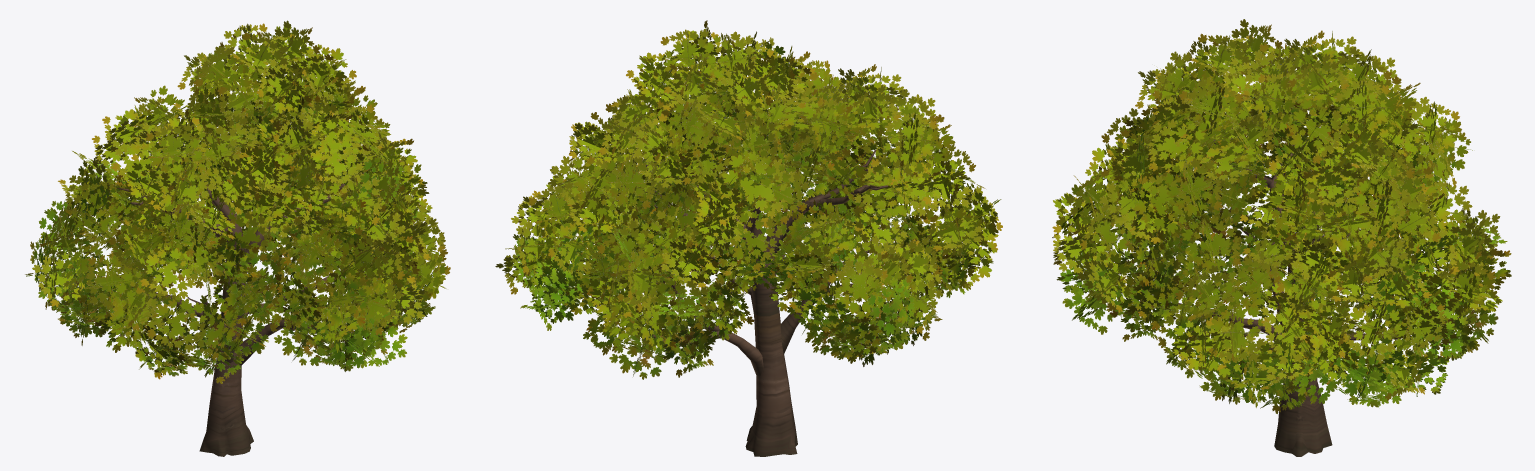
The model's file is FSF_Tree_003.FBX.
3 renders of one model, left to right at view 1: azimuth 30°, elevation 25°; view 2: azimuth 150°, elevation 25°; view 3: azimuth 270°, elevation 25°, orthographic. The views are drawn at different scales.
Parts seen in each view (by area): view 1: FSF_leves_003, FSF_truck_003; view 2: FSF_leves_003, FSF_truck_003; view 3: FSF_leves_003, FSF_truck_003.
Boxes of the visible parts, x1=… form: FSF_leves_003: x1=25, y1=20, x2=450, y2=383; FSF_truck_003: x1=106, y1=167, x2=363, y2=456; FSF_leves_003: x1=495, y1=20, x2=1002, y2=379; FSF_truck_003: x1=637, y1=149, x2=888, y2=456; FSF_leves_003: x1=1052, y1=19, x2=1511, y2=413; FSF_truck_003: x1=1168, y1=119, x2=1449, y2=456.
Size of the model in its own units: 499 by 476 by 474.
